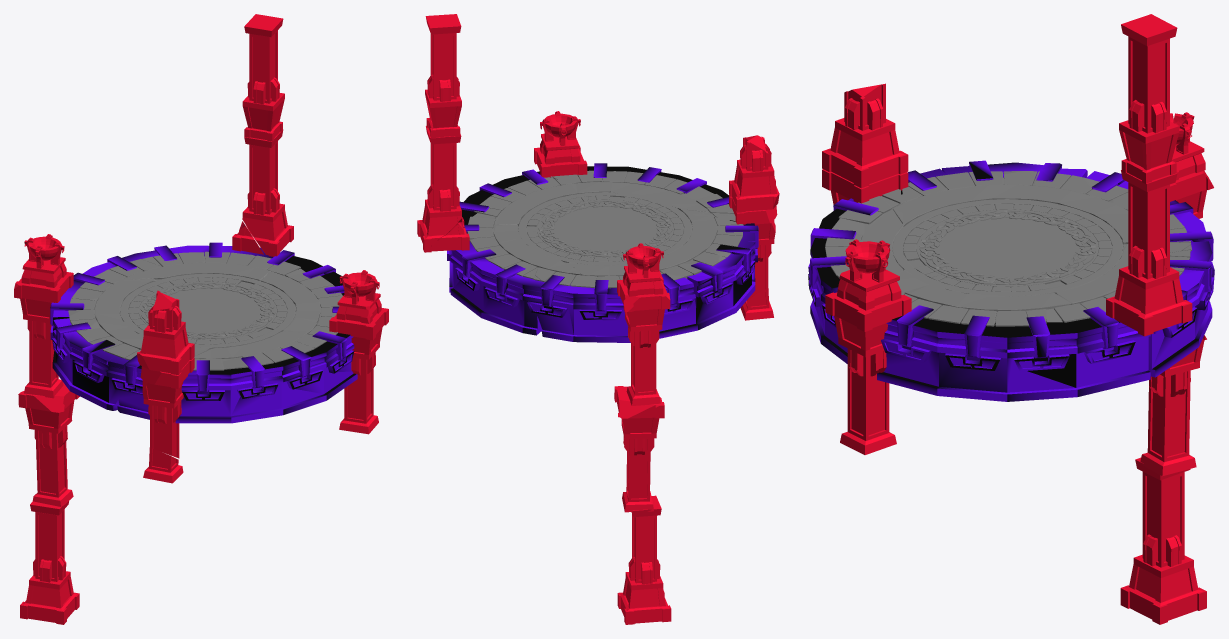
File: arena paint.fbx
3 views of the same model, side by side, from view 1: azimuth 30°, elevation 25°; view 2: azimuth 150°, elevation 25°; view 3: azimuth 270°, elevation 25° (orthographic). The views are drawn at different scales.
Parts seen in each view (by area): view 1: Cylinder001, TempleFrameB_A001, TemplePillar_B, TemplePillar_B002, TemplePillar_B003, TemplePillar_B015, TemplePillar_B010, TemplePillar_B005, TemplePillar_B001, TemplePillar_B018, TempleBrazier_A001, TempleBrazier_A; view 2: Cylinder001, TempleFrameB_A001, TemplePillar_B002, TemplePillar_B, TemplePillar_B001, TemplePillar_B015, TemplePillar_B003, TemplePillar_B018, TemplePillar_B010, TempleBrazier_A, TempleBrazier_A001, TemplePillar_B005; view 3: Cylinder001, TempleFrameB_A001, TemplePillar_B002, TemplePillar_B, TemplePillar_B015, TemplePillar_B005, TemplePillar_B018, TemplePillar_B003, TempleBrazier_A001, TemplePillar_B010, TempleBrazier_A, TemplePillar_B001.
Boxes of the visible parts, x1,y1,x2,y2 form: Cylinder001: (68, 251, 342, 370); TempleFrameB_A001: (50, 242, 357, 423); TemplePillar_B: (20, 501, 79, 624); TemplePillar_B002: (232, 129, 293, 256); TemplePillar_B003: (18, 382, 79, 506); TemplePillar_B015: (242, 14, 284, 141); TemplePillar_B010: (140, 357, 194, 483); TemplePillar_B005: (329, 308, 388, 434); TemplePillar_B001: (14, 272, 73, 398); TemplePillar_B018: (137, 290, 194, 375); TempleBrazier_A001: (336, 270, 381, 323); TempleBrazier_A: (21, 234, 66, 287); Cylinder001: (467, 170, 743, 288); TempleFrameB_A001: (447, 163, 758, 342); TemplePillar_B002: (417, 126, 469, 252); TemplePillar_B: (617, 495, 671, 624); TemplePillar_B001: (617, 277, 670, 405); TemplePillar_B015: (425, 14, 461, 138); TemplePillar_B003: (614, 386, 664, 512); TemplePillar_B018: (729, 135, 779, 212); TemplePillar_B010: (729, 194, 777, 320); TempleBrazier_A: (623, 243, 663, 296); TempleBrazier_A001: (540, 111, 580, 164); TemplePillar_B005: (534, 145, 587, 177); Cylinder001: (825, 171, 1191, 326); TempleFrameB_A001: (808, 160, 1214, 401); TemplePillar_B002: (1106, 170, 1192, 336); TemplePillar_B: (1120, 457, 1206, 624); TemplePillar_B015: (1119, 14, 1179, 183); TemplePillar_B005: (825, 292, 911, 454); TemplePillar_B018: (822, 83, 908, 188); TemplePillar_B003: (1140, 335, 1206, 476); TempleBrazier_A001: (837, 239, 901, 310); TemplePillar_B010: (822, 169, 908, 204); TempleBrazier_A: (1170, 112, 1205, 180); TemplePillar_B001: (1170, 170, 1213, 218).
Size of the model in its own units: 1773 by 3339 by 1722.
